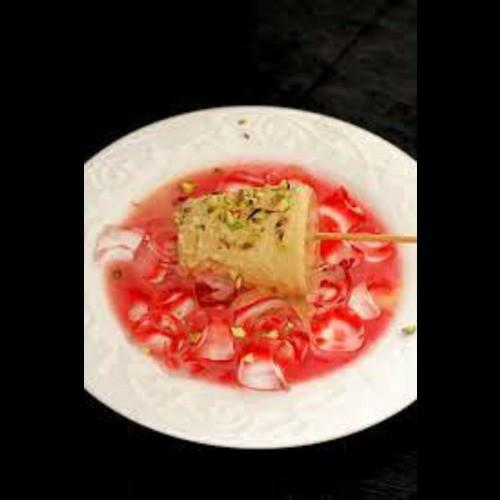Kulfi: (175, 183, 319, 295)
